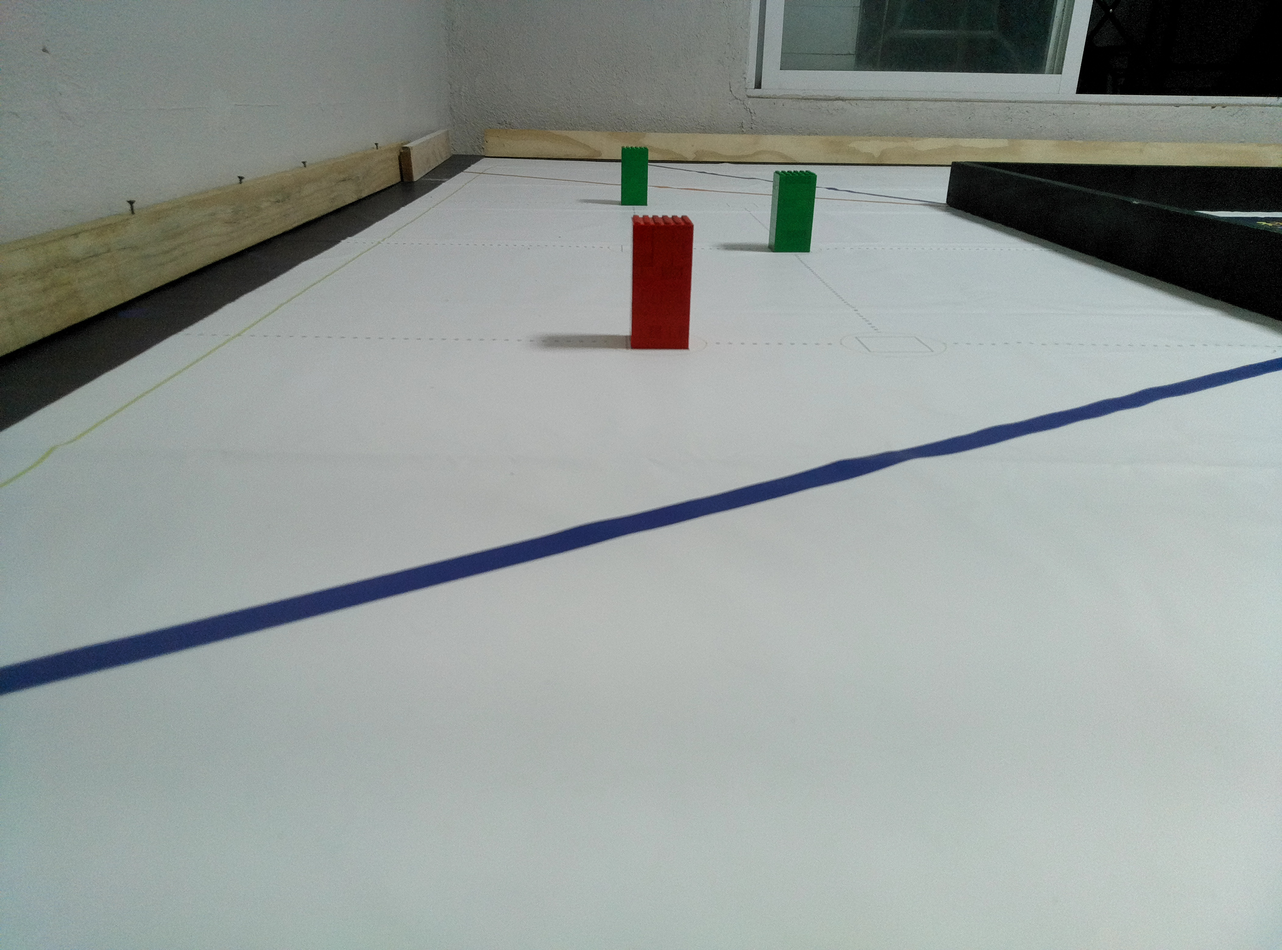greenbox: (768, 170, 817, 253), (621, 146, 649, 206)
redbox: (630, 214, 694, 350)
